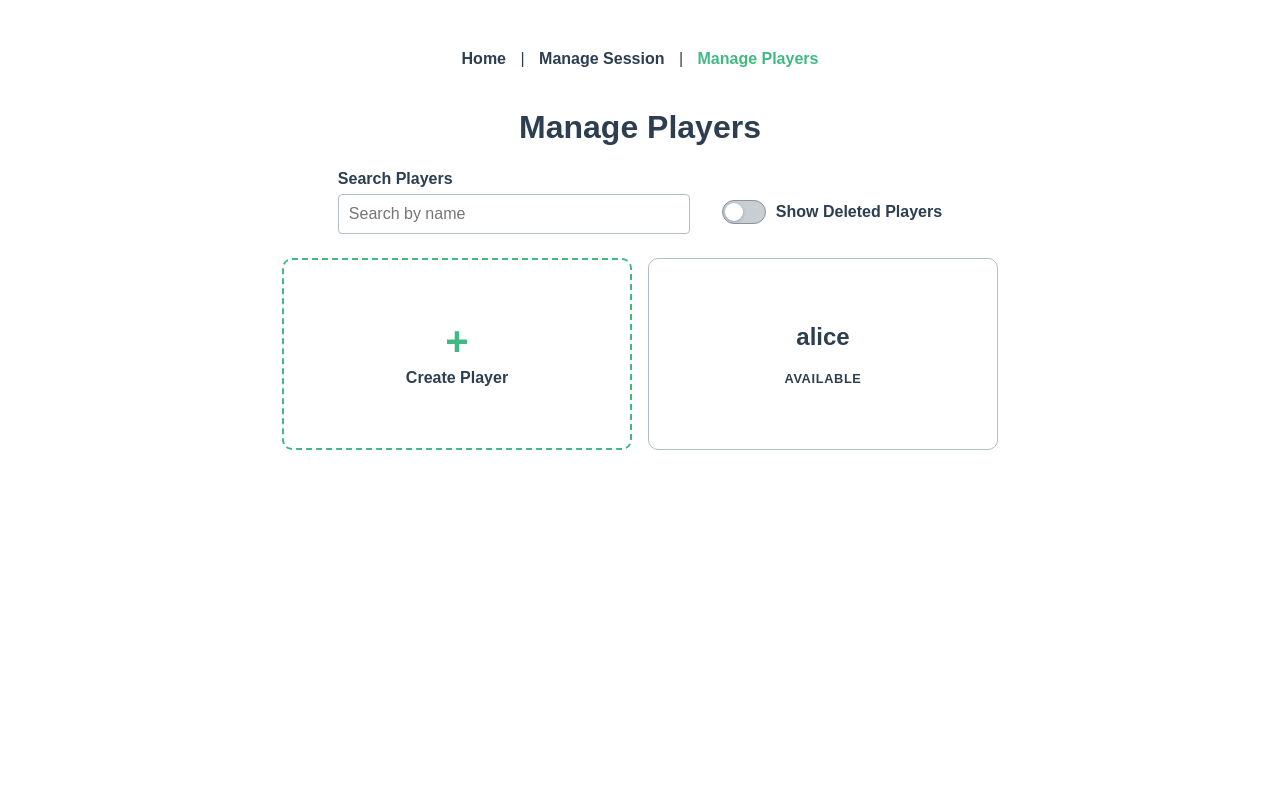
Scenario: Application routes › blocks deletion of a Player linked to a started Session
This screenshot has width=1280, height=800.
Click the button "alice".
click(823, 337)  # box x1=796 y1=323 x2=849 y2=351
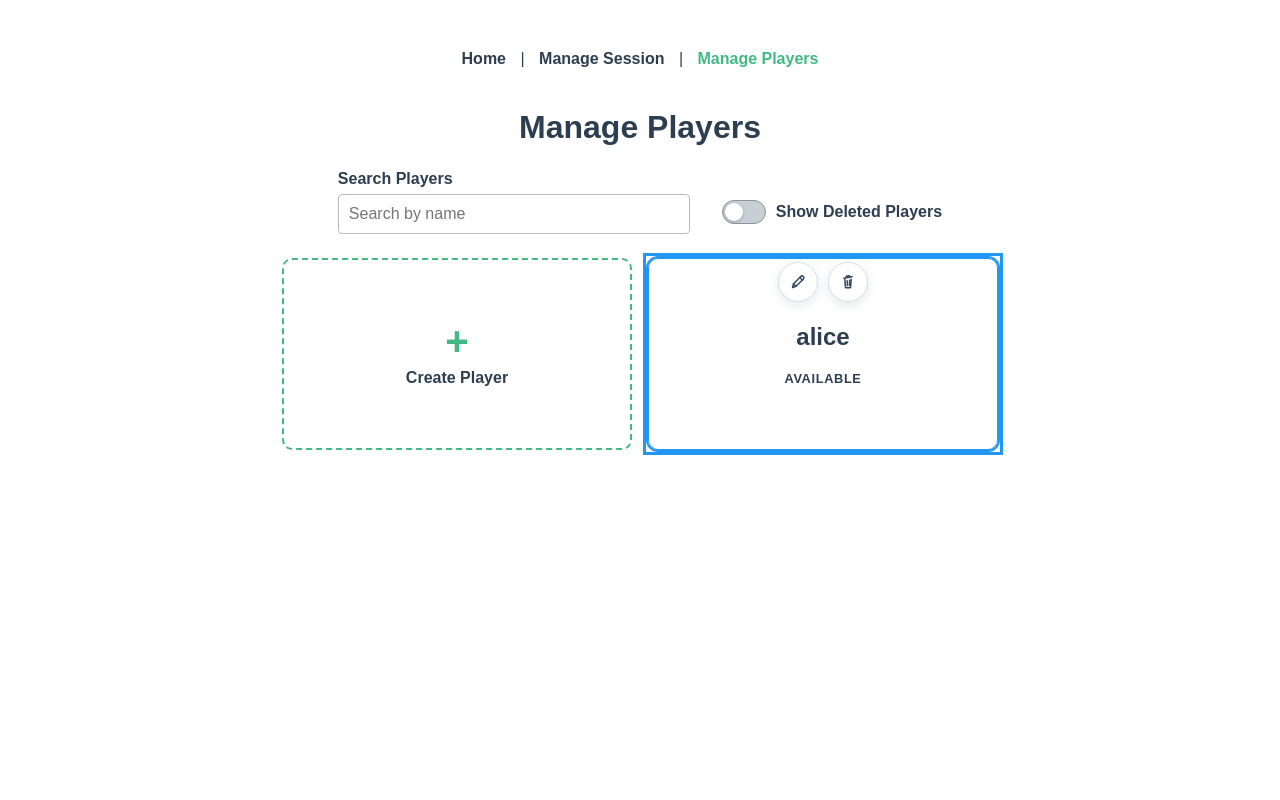
Click the button named "Delete alice".
click(848, 282)  # box x1=828 y1=262 x2=868 y2=302
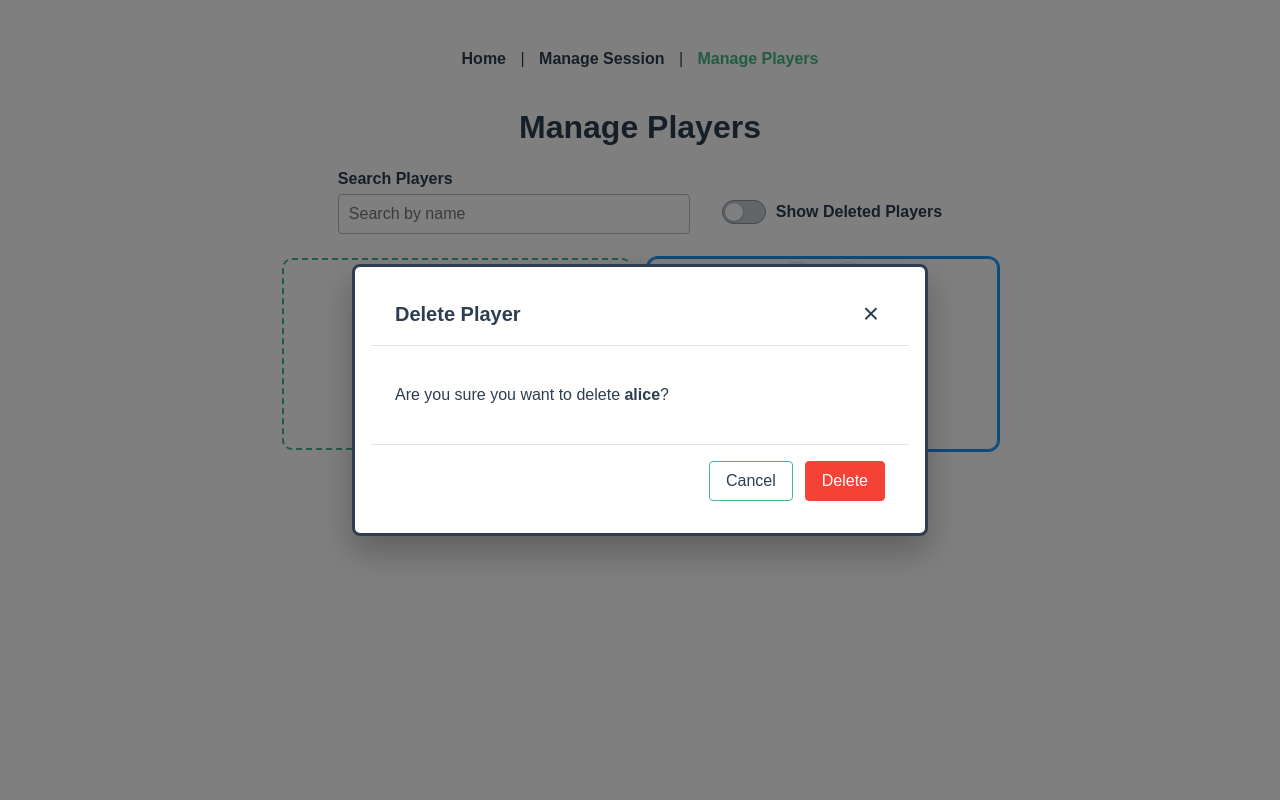
Click the button with class "delete-player-confirm".
click(845, 481)  # box x1=805 y1=461 x2=885 y2=501
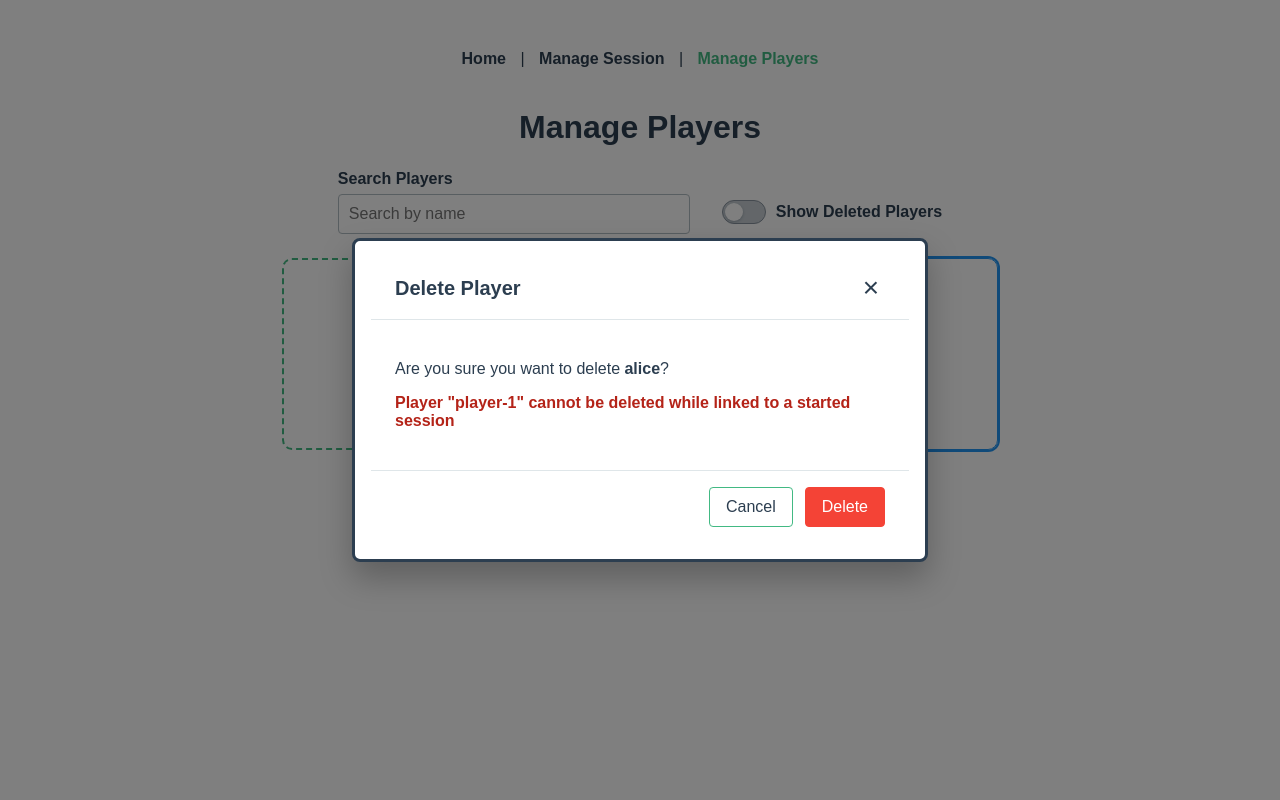
expect the dialog named "Delete Player" is shown: met, box x1=352 y1=238 x2=928 y2=562
expect the message with class "modal-error" shows "cannot be deleted while linked": met, box x1=395 y1=394 x2=885 y2=430
